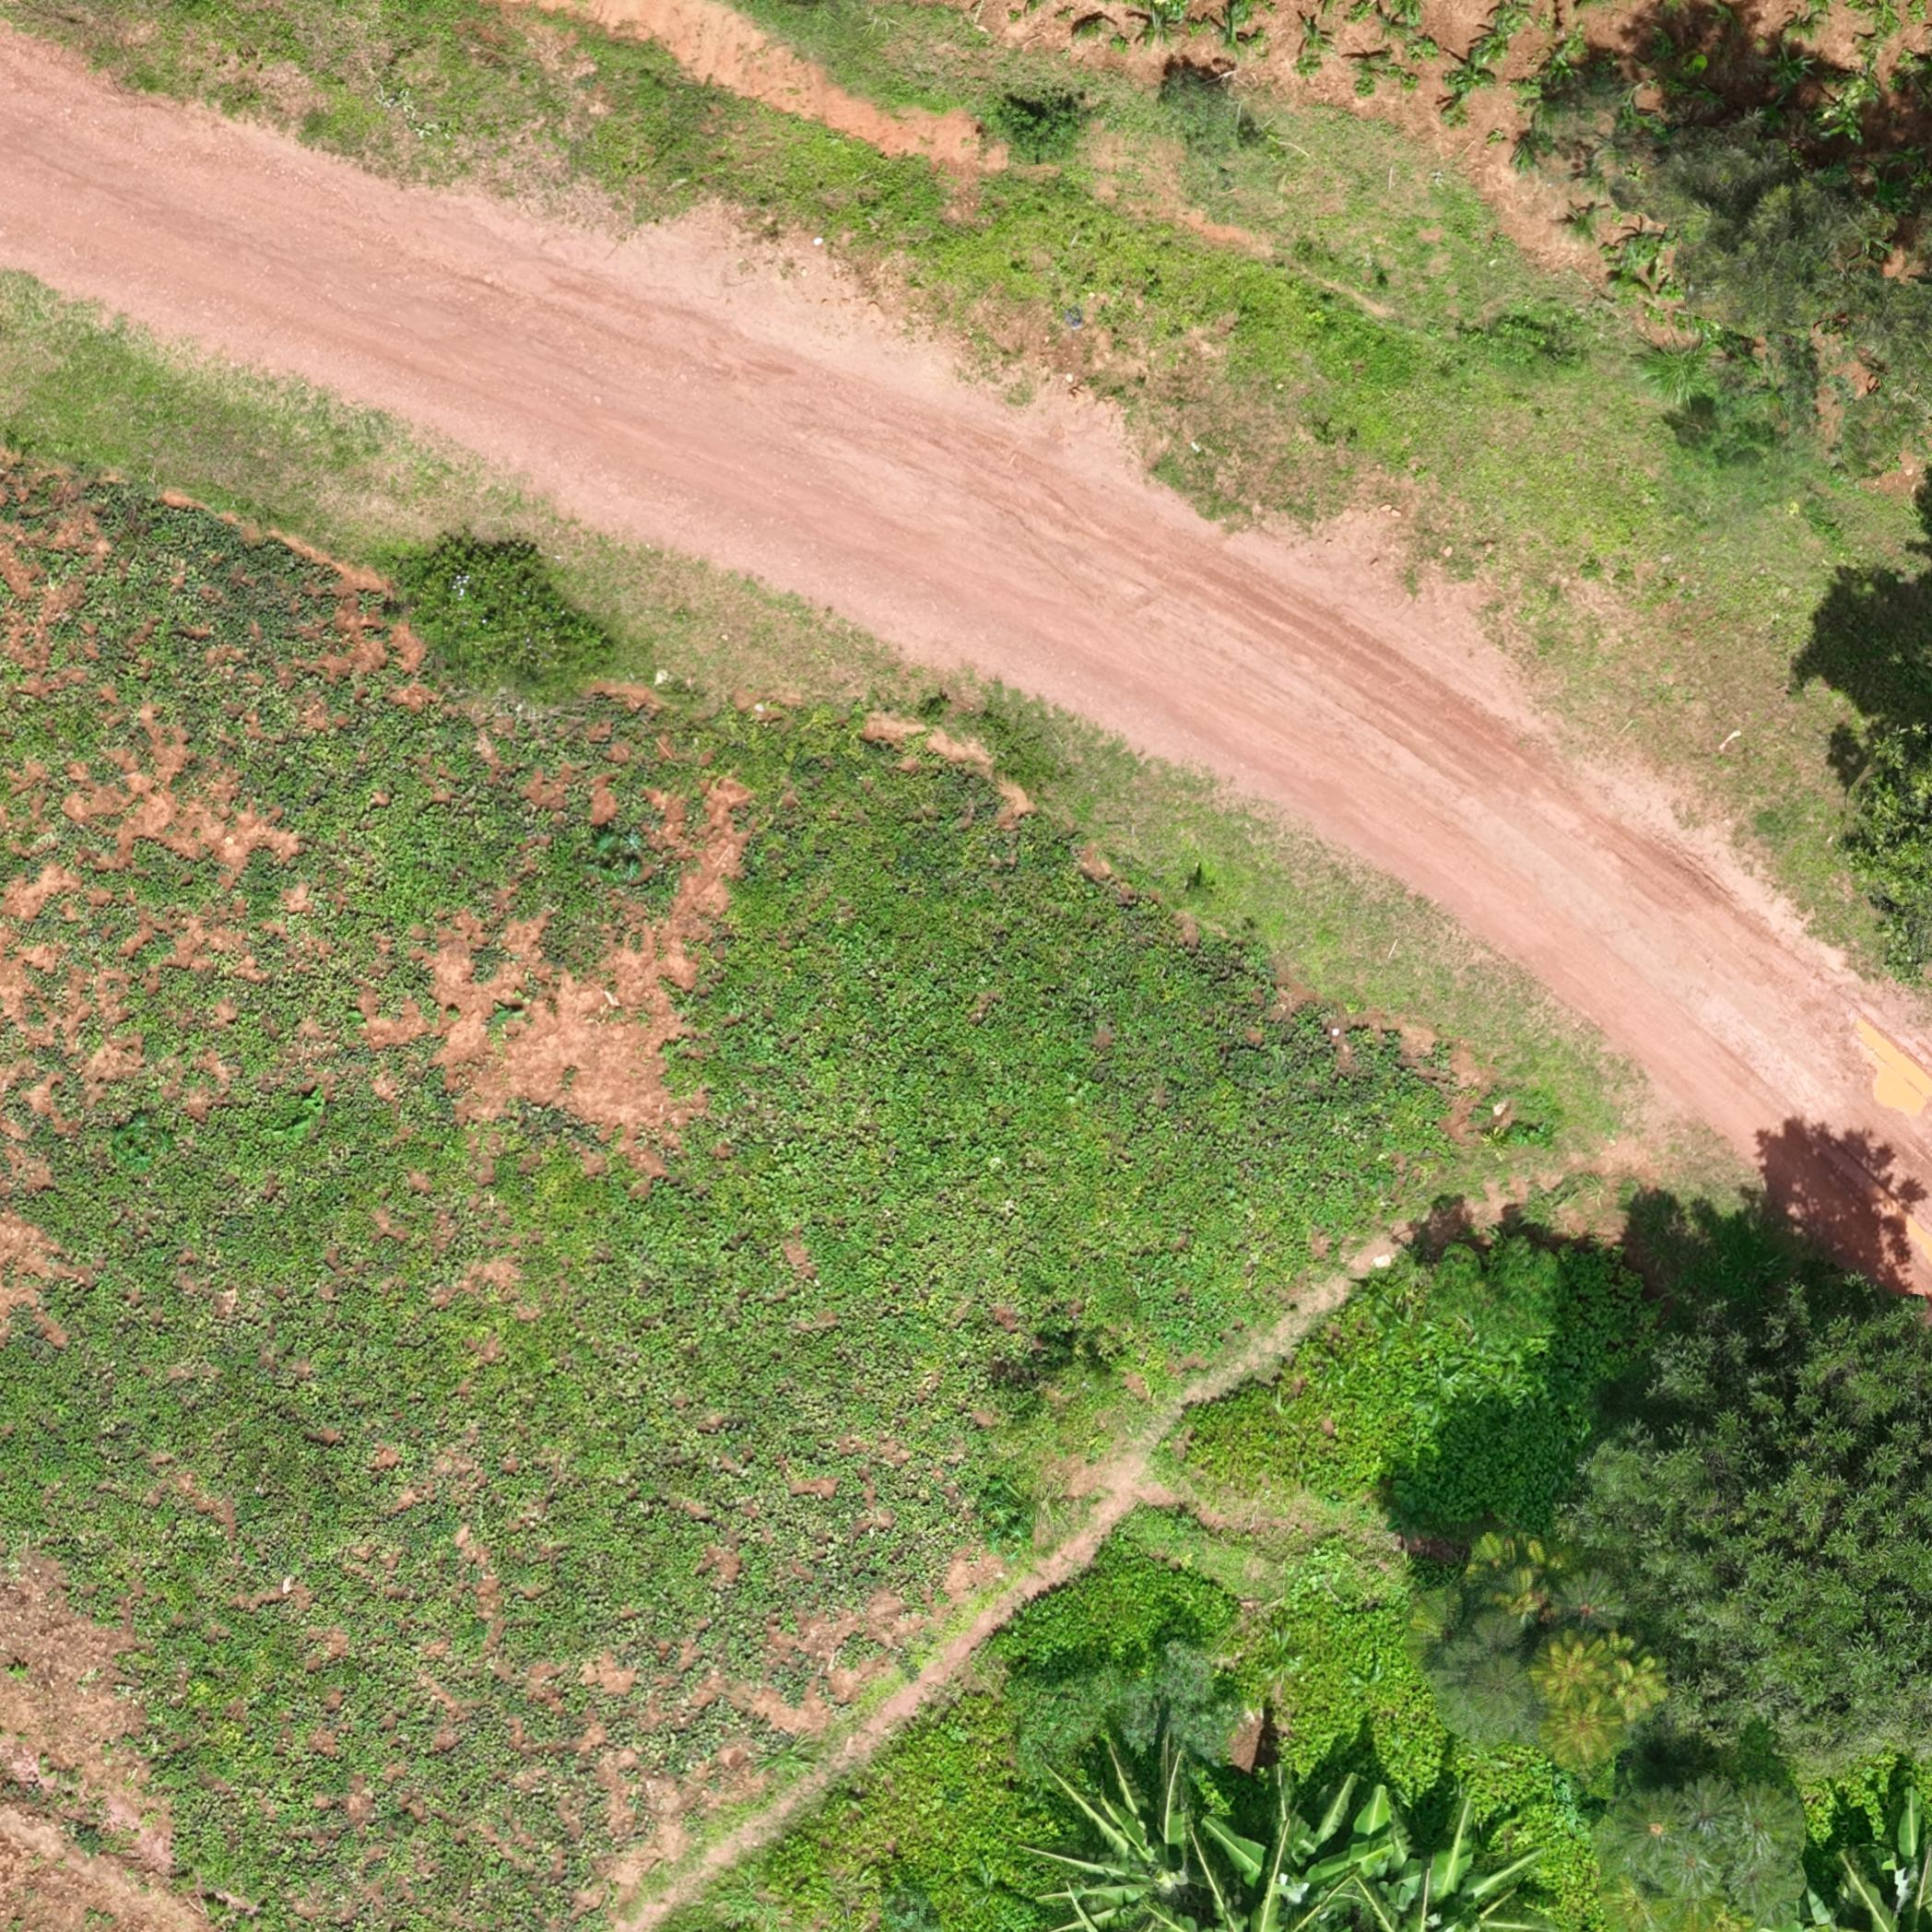Banana: (1021, 1736, 1214, 1918), (1343, 1810, 1559, 1930), (1200, 1775, 1357, 1909), (1789, 1790, 1930, 1921)
